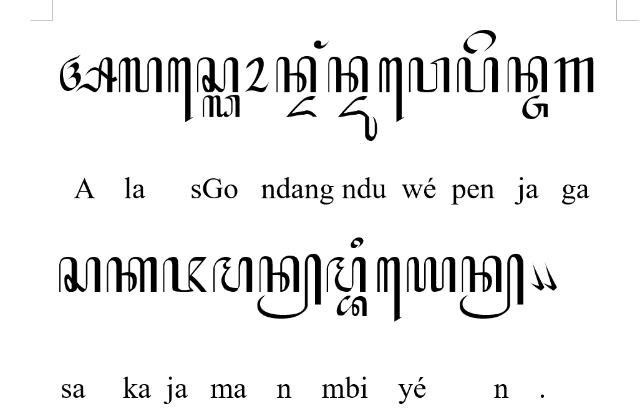-n: (458, 252, 524, 319), (257, 253, 321, 318)
A: (59, 54, 117, 92)
G: (202, 94, 240, 118)
_b: (336, 295, 366, 317)
_d: (286, 95, 316, 117)
_du: (338, 96, 378, 140)
_j: (522, 95, 548, 119)
e: (464, 30, 496, 54)
e1: (168, 57, 192, 123), (379, 57, 403, 123), (377, 256, 401, 322)
g: (554, 57, 594, 93)
i: (351, 237, 363, 249)
j: (163, 256, 207, 294), (507, 56, 548, 92)
k: (106, 256, 156, 292)
kom: (530, 263, 544, 291), (543, 263, 557, 291)
l: (119, 57, 163, 93)
m: (213, 256, 253, 292), (326, 256, 366, 292)
n: (327, 56, 368, 92), (276, 56, 316, 92)
ng: (314, 40, 330, 48)
o: (245, 57, 269, 92)
p: (457, 57, 499, 93)
s: (59, 256, 101, 292), (197, 57, 239, 92)
w: (408, 57, 449, 93)
y: (407, 256, 455, 292)
